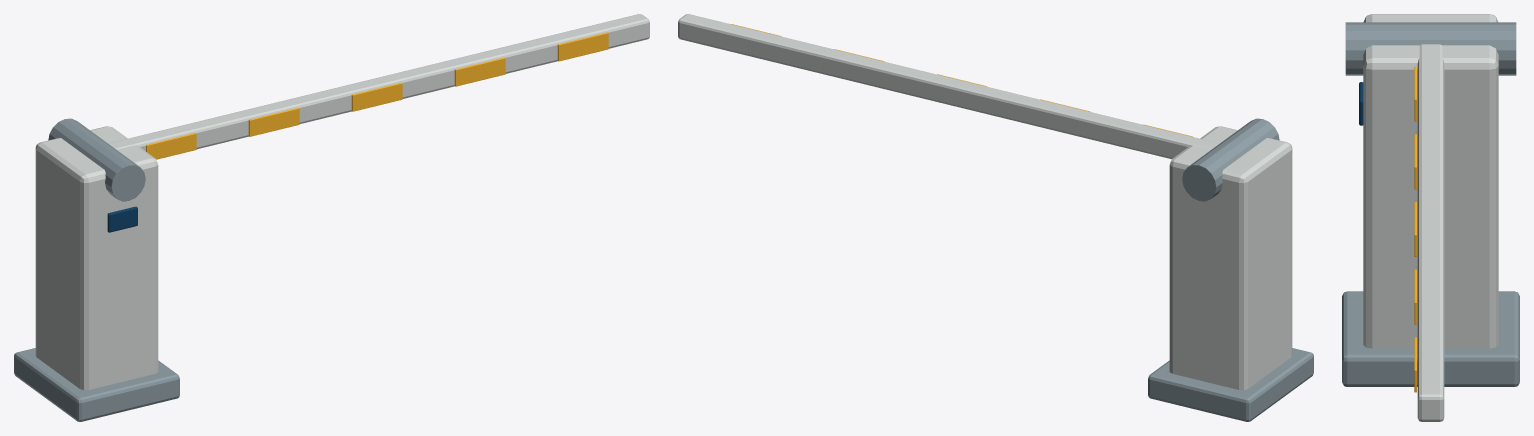
3 renders of one model, left to right at view 1: azimuth 30°, elevation 25°; view 2: azimuth 150°, elevation 25°; view 3: azimuth 270°, elevation 25°, orthographic. The views are drawn at different scales.
Visible parts, largest first — view 1: CABINET, ARM, BASE, HINGE_Axle, REFLECTOR.002, REFLECTOR.003, REFLECTOR.004, REFLECTOR.001, REFLECTOR, STATUS; view 2: CABINET, ARM, BASE, HINGE_Axle; view 3: CABINET, ARM, BASE, HINGE_Axle, STATUS.
Part boxes in pixels (x1,y1,x2,y2): CABINET: [35, 126, 158, 390]; ARM: [108, 14, 649, 151]; BASE: [14, 348, 179, 421]; HINGE_Axle: [48, 118, 145, 201]; REFLECTOR.002: [351, 82, 402, 111]; REFLECTOR.003: [454, 57, 505, 86]; REFLECTOR.004: [557, 32, 608, 61]; REFLECTOR.001: [248, 107, 299, 136]; REFLECTOR: [146, 132, 196, 159]; STATUS: [107, 206, 137, 232]; CABINET: [1169, 126, 1292, 390]; ARM: [678, 14, 1219, 159]; BASE: [1148, 348, 1313, 421]; HINGE_Axle: [1182, 118, 1279, 201]; CABINET: [1363, 14, 1498, 348]; ARM: [1417, 44, 1444, 421]; BASE: [1342, 291, 1519, 386]; HINGE_Axle: [1345, 22, 1516, 75]; STATUS: [1359, 82, 1363, 125].
Bounding box in the file's own units: 2.63 × 1.02 × 0.5.
